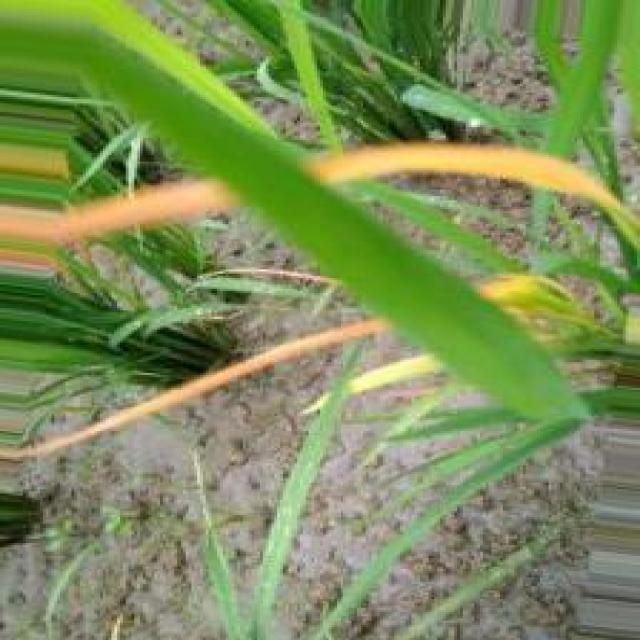Rice Tungro: (0, 320, 388, 461), (307, 142, 638, 246), (3, 180, 239, 243), (348, 355, 443, 394), (303, 395, 326, 414)
